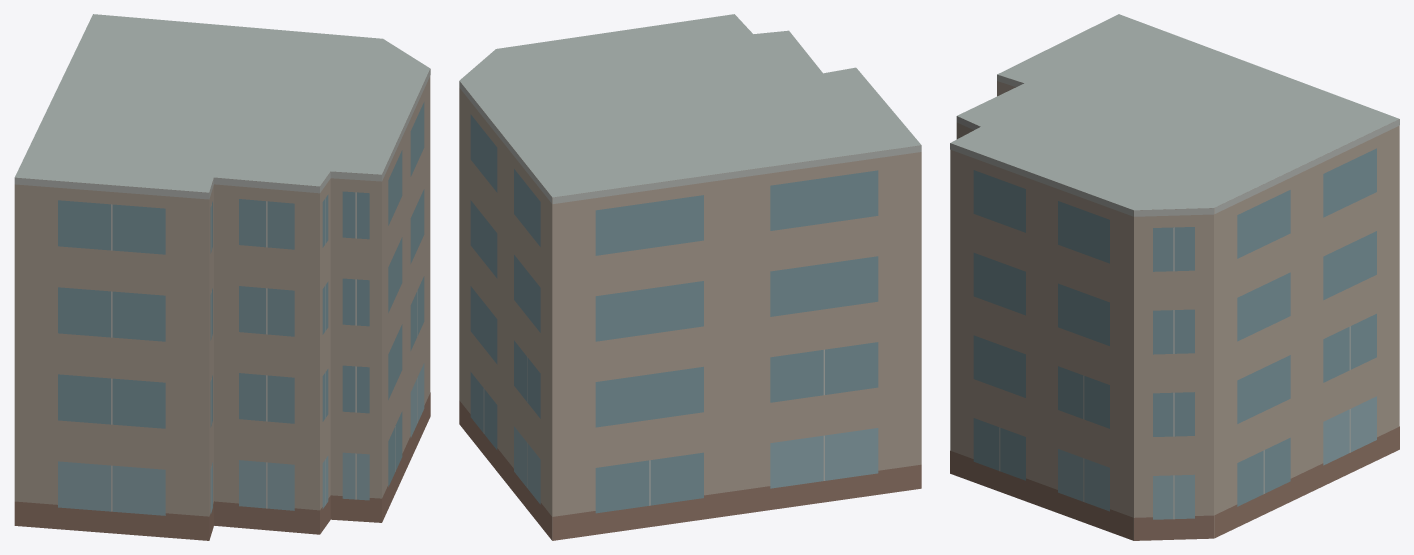
The model's file is survey-upis-33044228.glb.
3 renders of one model, left to right at view 1: azimuth 30°, elevation 25°; view 2: azimuth 150°, elevation 25°; view 3: azimuth 270°, elevation 25°, orthographic. The views are drawn at different scales.
Visible parts, largest first — view 1: survey-upis-33044228.tmp; view 2: survey-upis-33044228.tmp; view 3: survey-upis-33044228.tmp.
Part boxes in pixels (bbox=[...]): survey-upis-33044228.tmp: bbox=[14, 14, 430, 540]; survey-upis-33044228.tmp: bbox=[459, 14, 921, 540]; survey-upis-33044228.tmp: bbox=[950, 14, 1399, 540].
Size of the model in its own units: 15.8 by 12.4 by 15.3.
